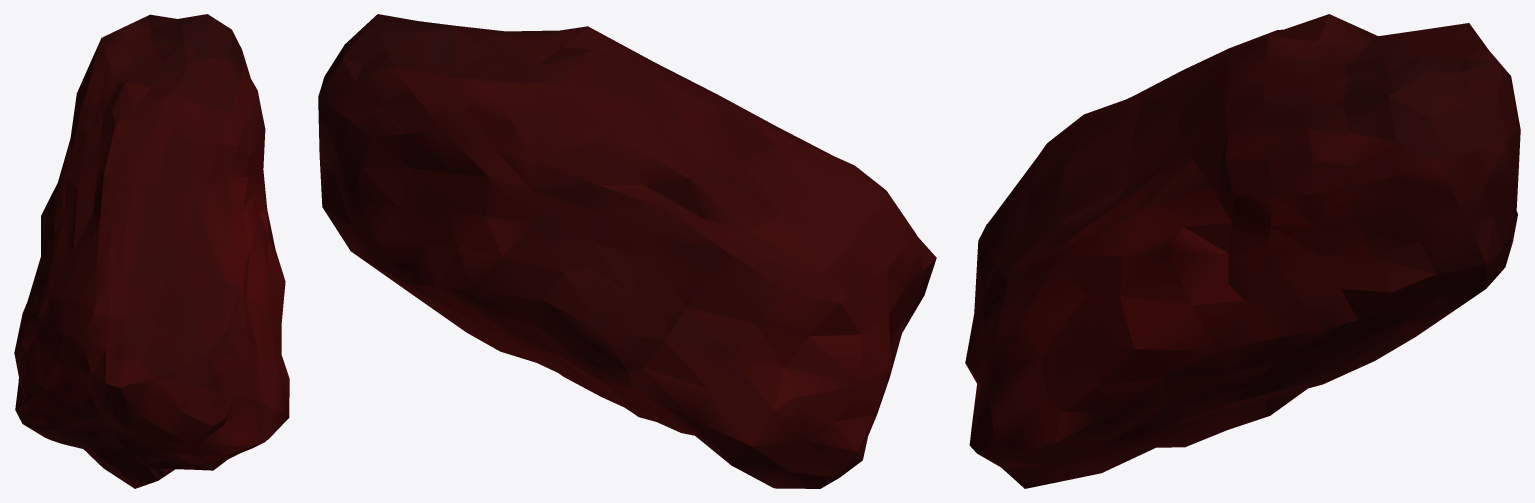
Rendered from geology-rocks-asteroidhuge_v6.fbx.
The picture shows the model from 3 angles, left to right: view 1: azimuth 30°, elevation 25°; view 2: azimuth 150°, elevation 25°; view 3: azimuth 270°, elevation 25°; orthographic projection. The views are drawn at different scales.
Parts seen in each view (by area): view 1: AsteroidHuge_v6; view 2: AsteroidHuge_v6; view 3: AsteroidHuge_v6.
Boxes of the visible parts, bbox=[...] form: AsteroidHuge_v6: bbox=[14, 14, 289, 488]; AsteroidHuge_v6: bbox=[318, 14, 936, 488]; AsteroidHuge_v6: bbox=[965, 14, 1520, 488].
Bounding box in the file's own units: 1.72 × 1.91 × 1.87.
